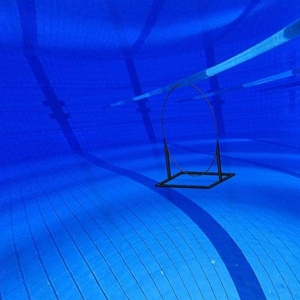circle: (154, 80, 236, 189)
